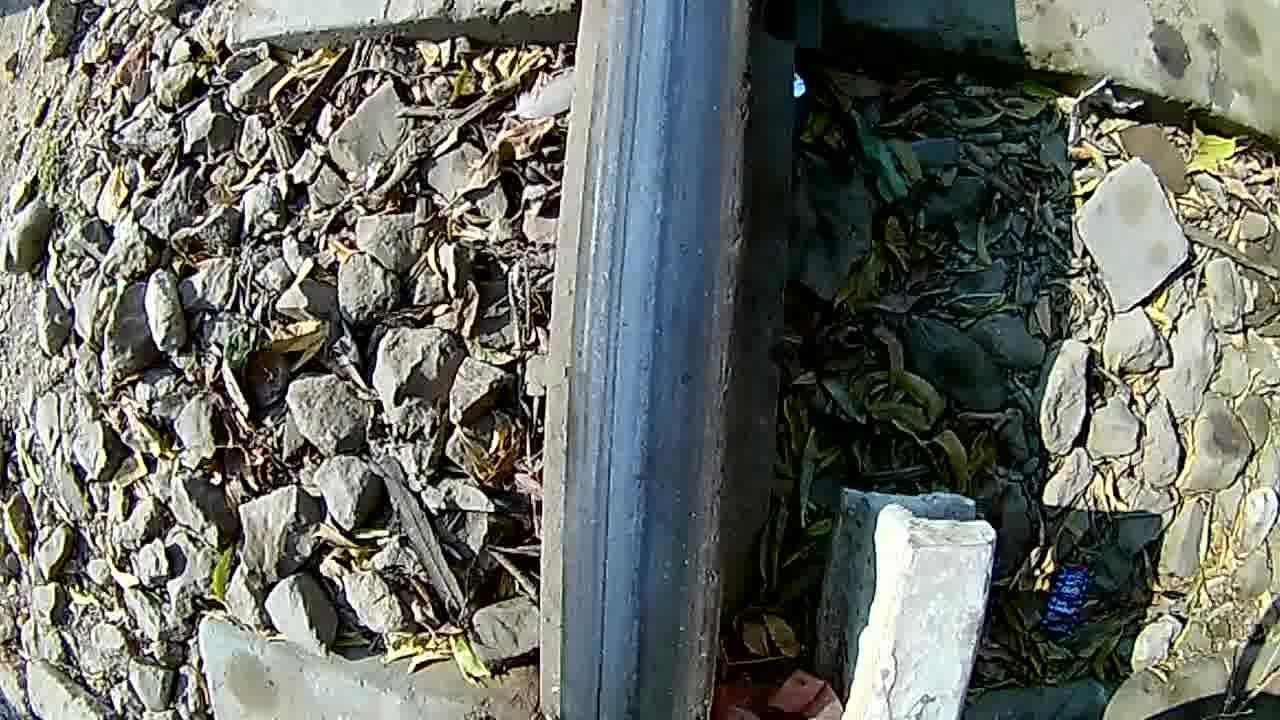clip_missing: (536, 0, 758, 717)
